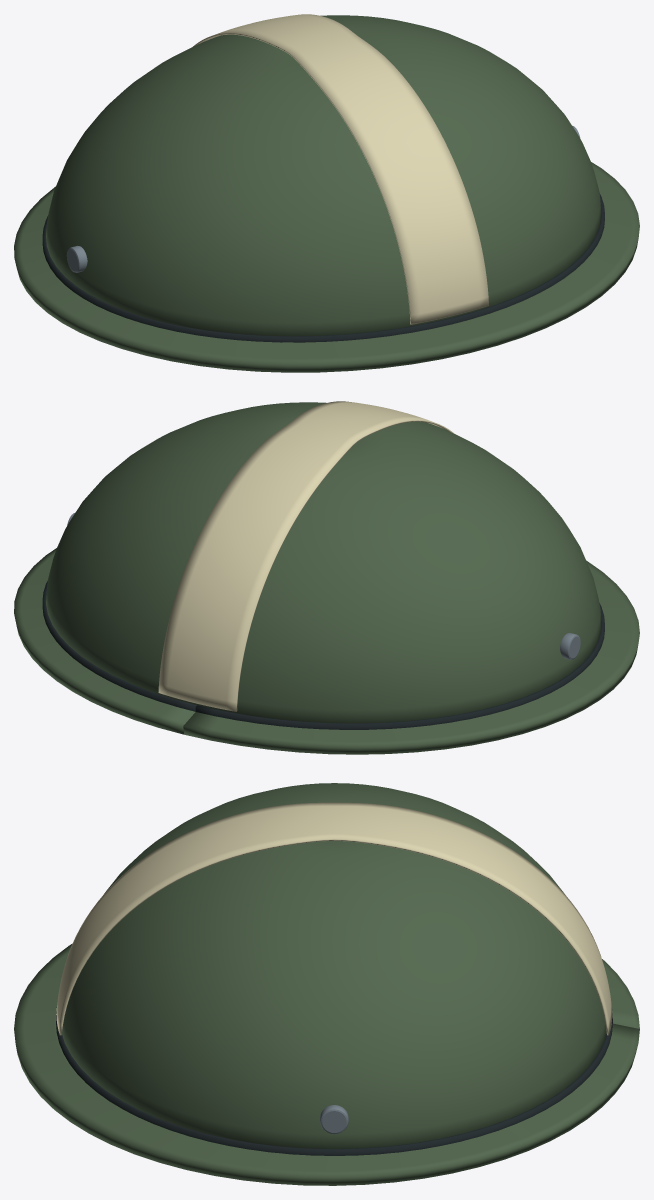
File: goose-headwear-stripe.glb
3 renders of one model, top to bottom at view 1: azimuth 30°, elevation 25°; view 2: azimuth 150°, elevation 25°; view 3: azimuth 270°, elevation 25°, orthographic. The views are drawn at different scales.
Visible parts, largest first — view 1: goose_headwear_stripe_mesh; view 2: goose_headwear_stripe_mesh; view 3: goose_headwear_stripe_mesh.
Part boxes in pixels (x1,y1,x2,y2): goose_headwear_stripe_mesh: [14, 14, 639, 372]; goose_headwear_stripe_mesh: [14, 401, 639, 754]; goose_headwear_stripe_mesh: [14, 783, 639, 1185].
Size of the model in its own units: 1.07 by 0.3744 by 0.9634.
